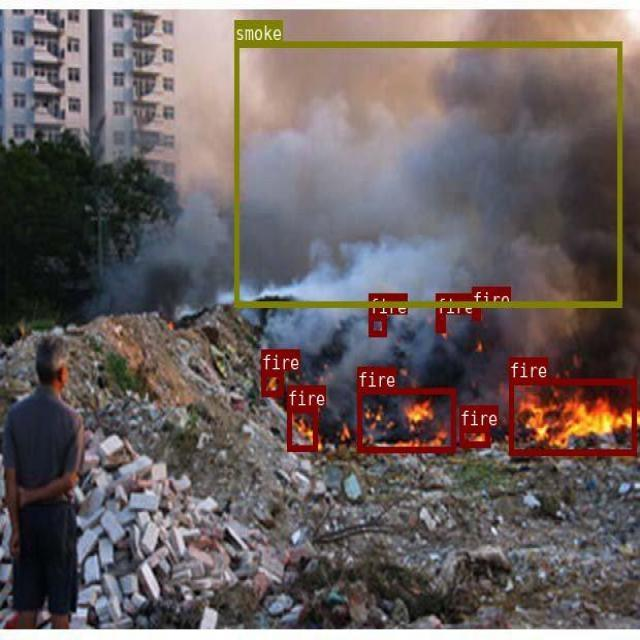fire: (508, 378, 636, 454), (357, 388, 455, 451), (286, 406, 317, 450), (460, 426, 489, 446), (261, 370, 283, 395), (369, 315, 385, 335), (435, 315, 444, 331), (472, 307, 479, 319)
smoke: (234, 41, 621, 306)
